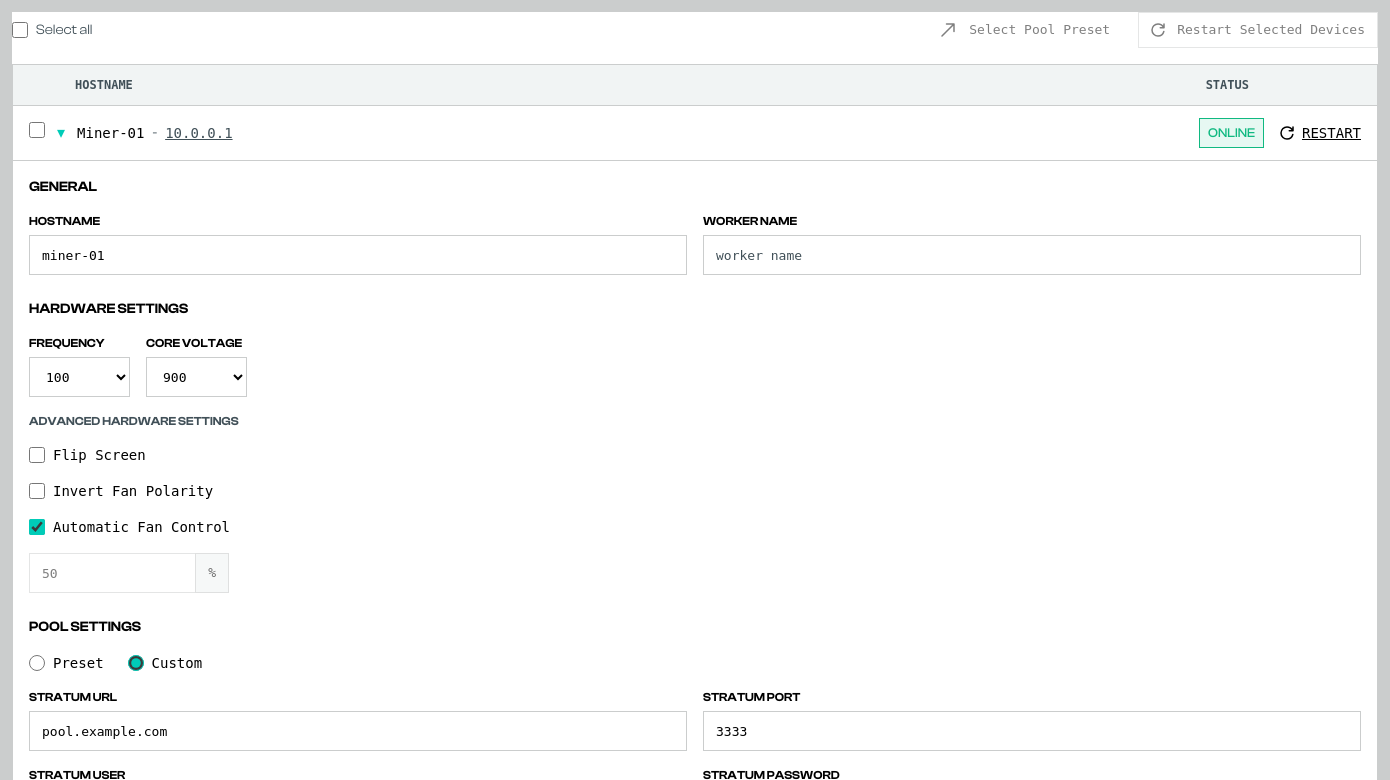
Test: DeviceSettingsAccordion validation › ignores fanspeed validation errors when autofanspeed is enabled
Note: Disable autofanspeed so fanspeed becomes editable.
Click the checkbox labelled "Automatic Fan Control": (37, 527) [29, 519, 45, 535]
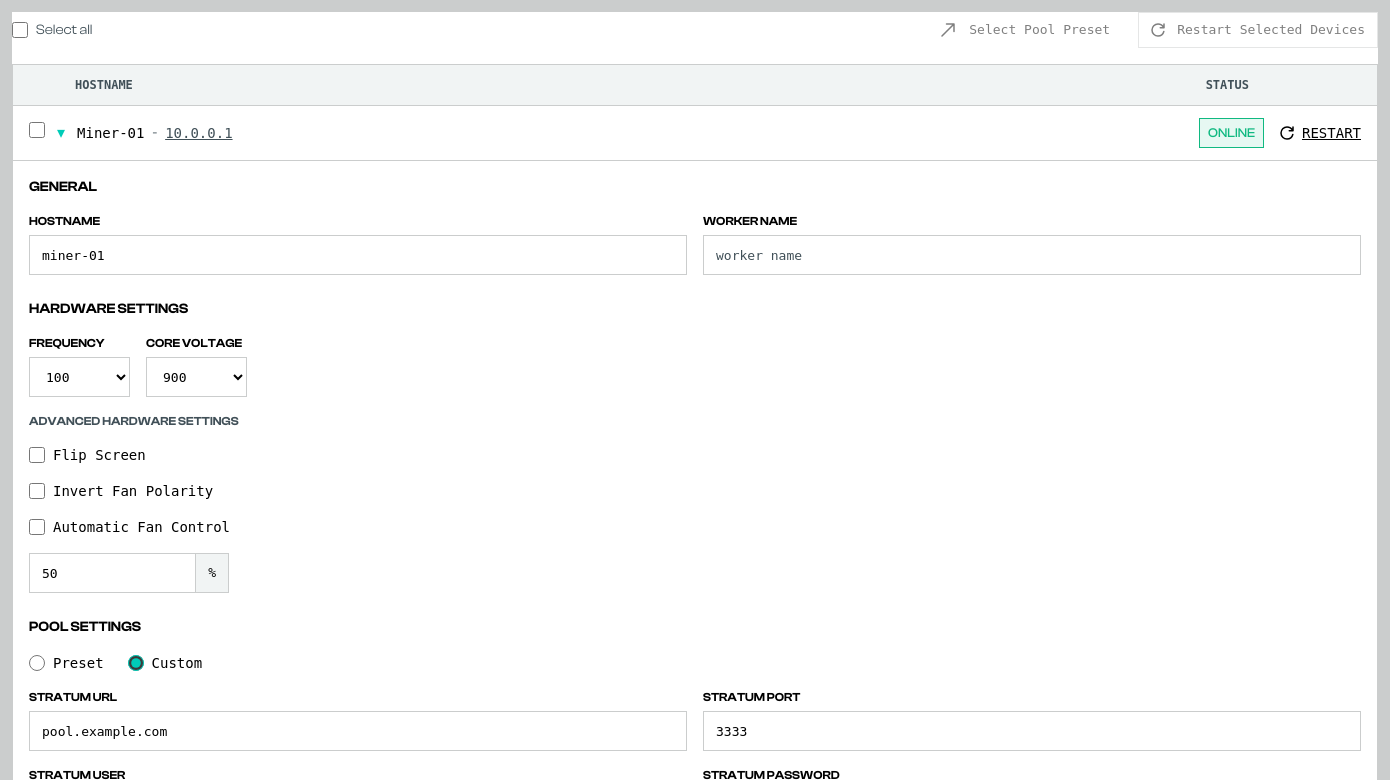
Now the checkbox labelled "Automatic Fan Control" is not checked, box [29, 519, 45, 535]
Now the number field with id "aa-fanspeed" is enabled
Replace the text in the number field with id "aa-fanspeed" with "200": (112, 573) [29, 553, 195, 593]
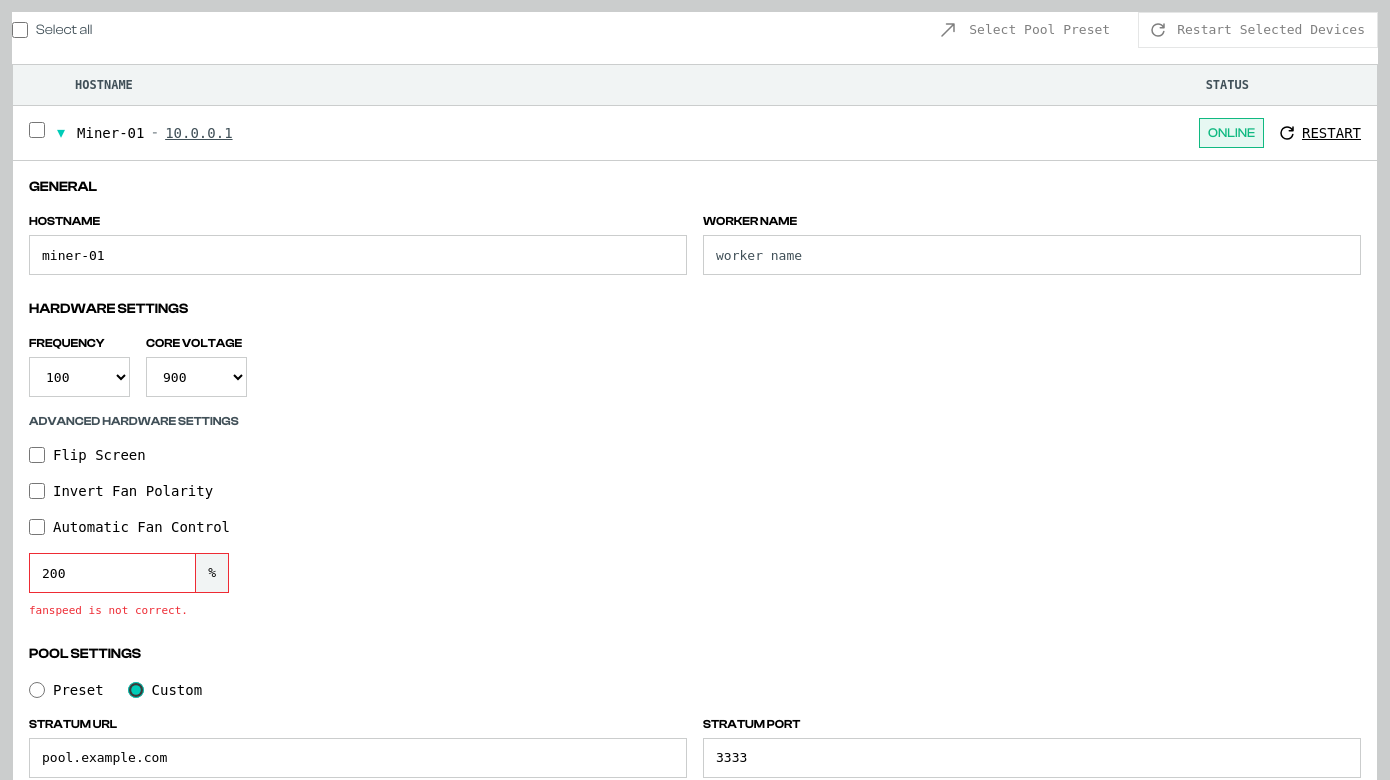
Now the text "fanspeed is not correct." is shown, box [29, 604, 188, 617]
Note: Also reject negative values.
Replace the text in the number field with id "aa-fanspeed" with "-1": (112, 573) [29, 553, 195, 593]
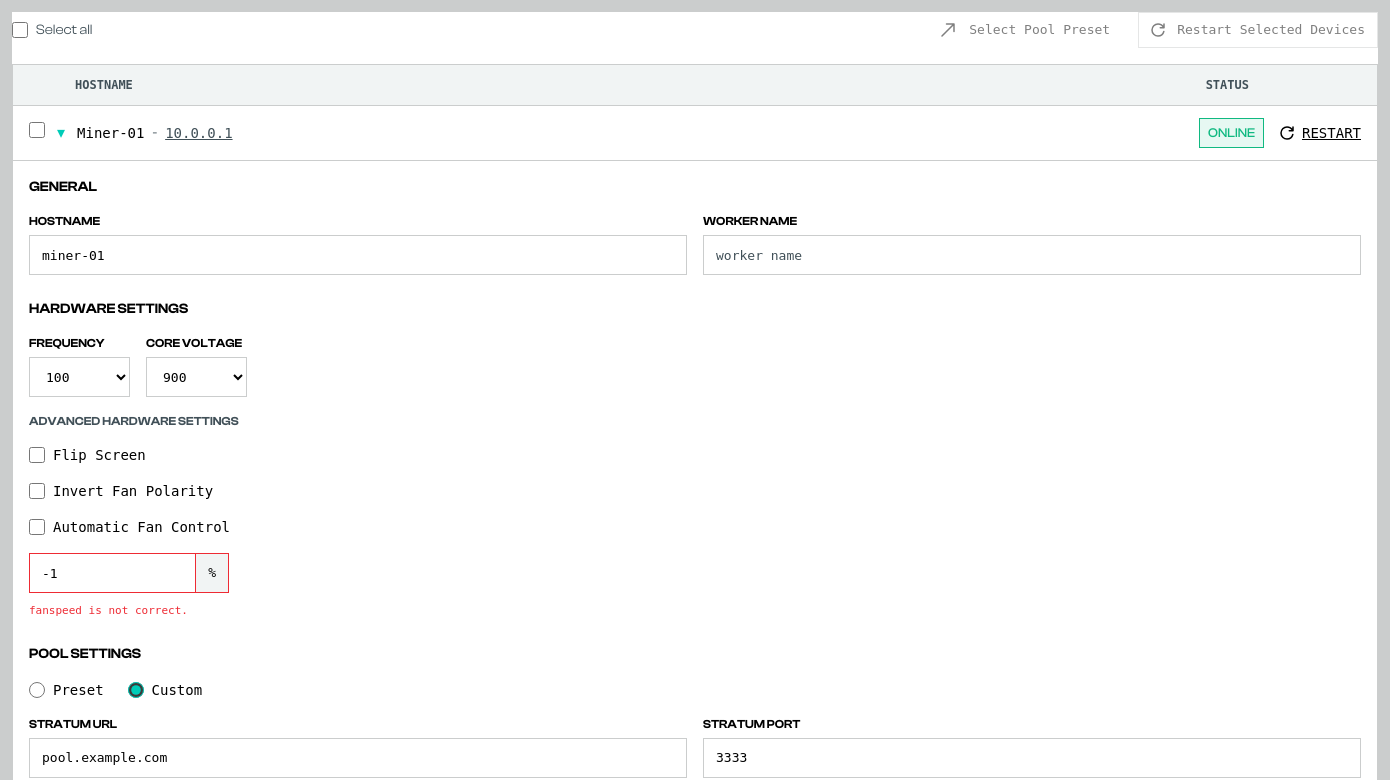
Now the text "fanspeed is not correct." is shown, box [29, 604, 188, 617]
Note: Restore a valid value.
Replace the text in the number field with id "aa-fanspeed" with "50": (112, 573) [29, 553, 195, 593]
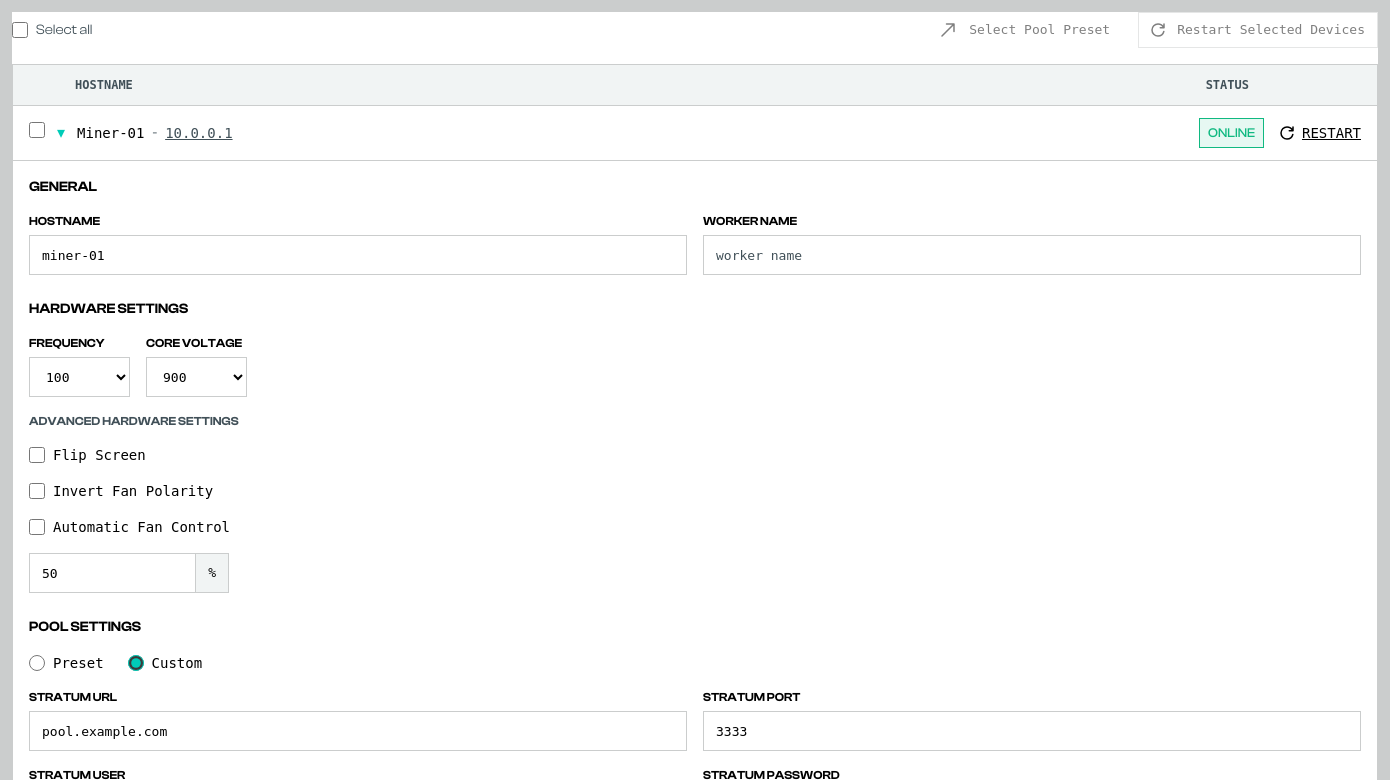
Now the text "fanspeed is not correct." is gone
Note: Re-introduce an invalid value so hasErrorFields has something to ignore.
Replace the text in the number field with id "aa-fanspeed" with "200": (112, 573) [29, 553, 195, 593]
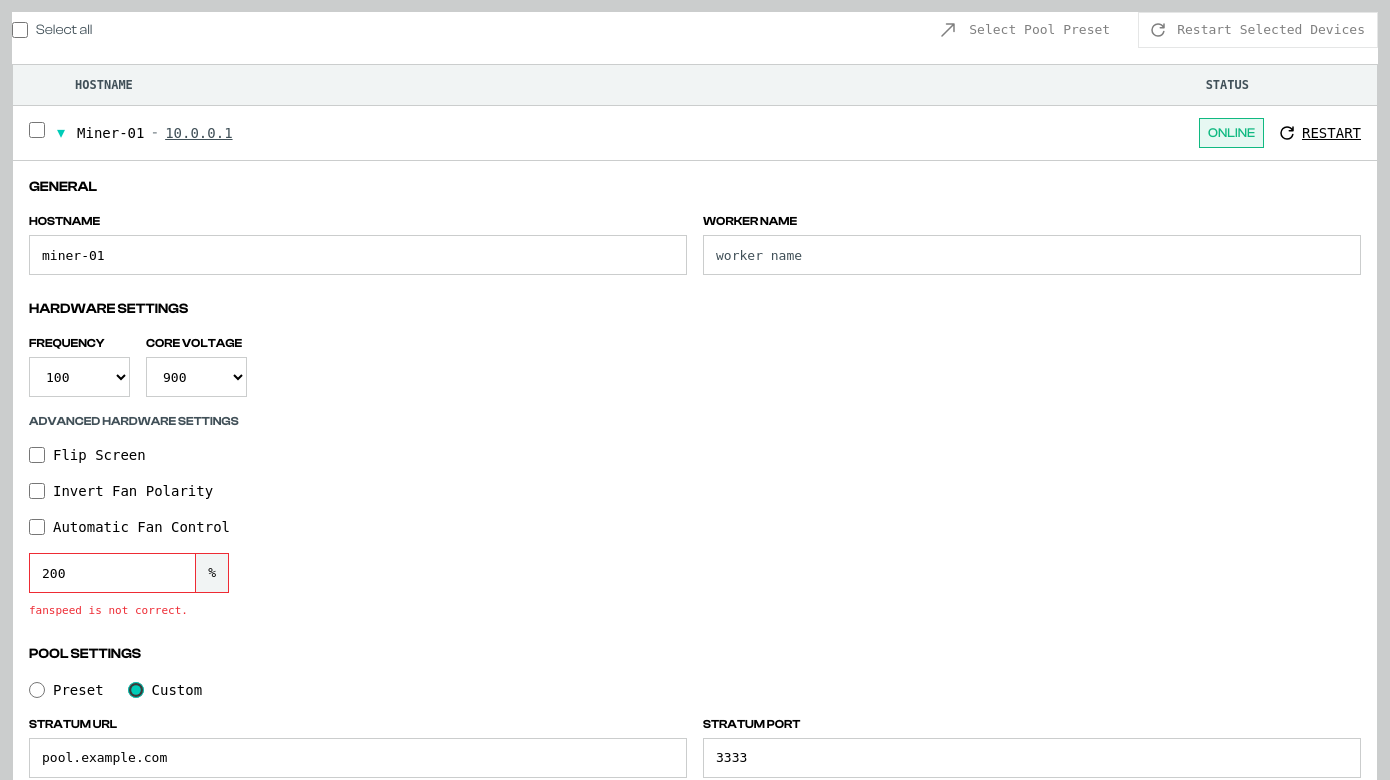
Now the text "fanspeed is not correct." is shown, box [29, 604, 188, 617]
Click the checkbox labelled "Automatic Fan Control": (37, 527) [29, 519, 45, 535]
(page scrolled)
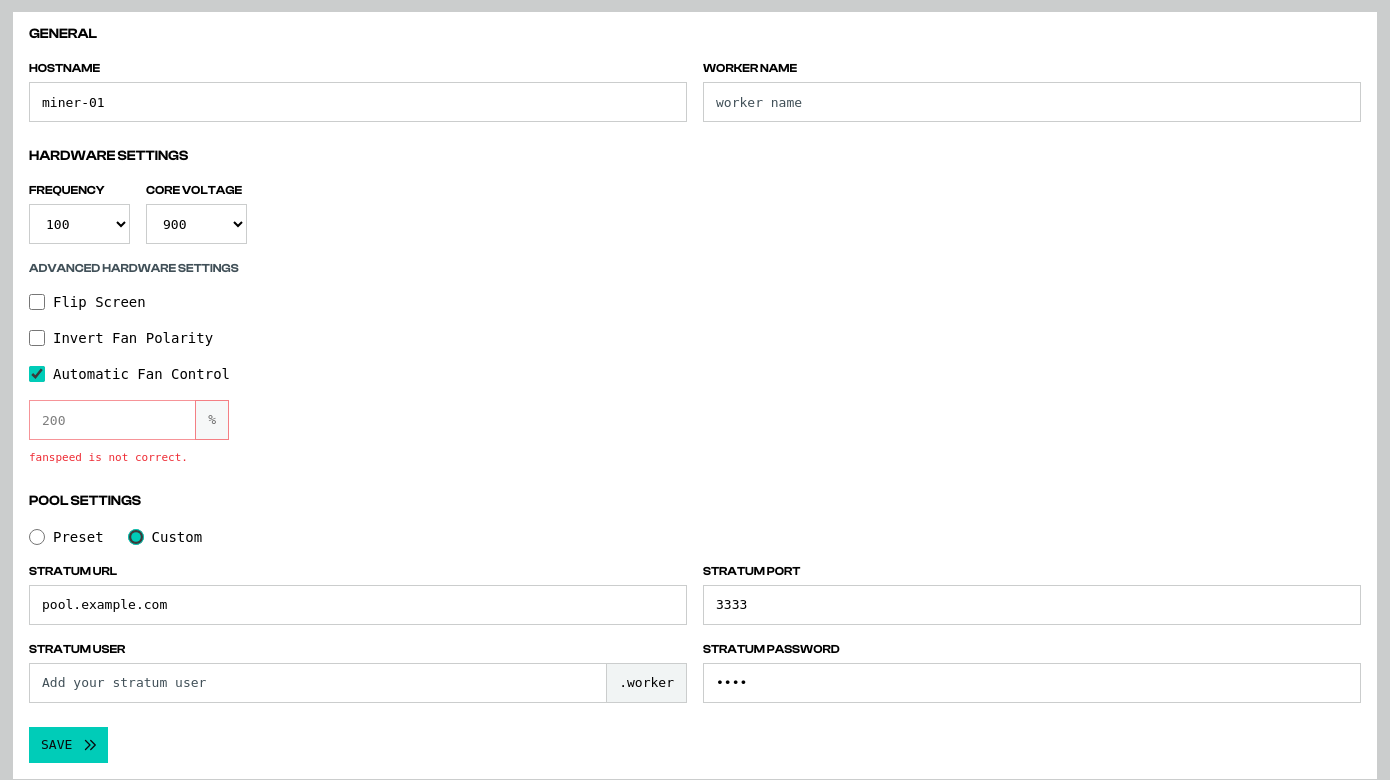
Now the checkbox labelled "Automatic Fan Control" is checked, box [29, 366, 45, 382]
Now the number field with id "aa-fanspeed" is disabled, box [29, 400, 195, 440]
Now the button "Save" is enabled, box [29, 726, 108, 762]
